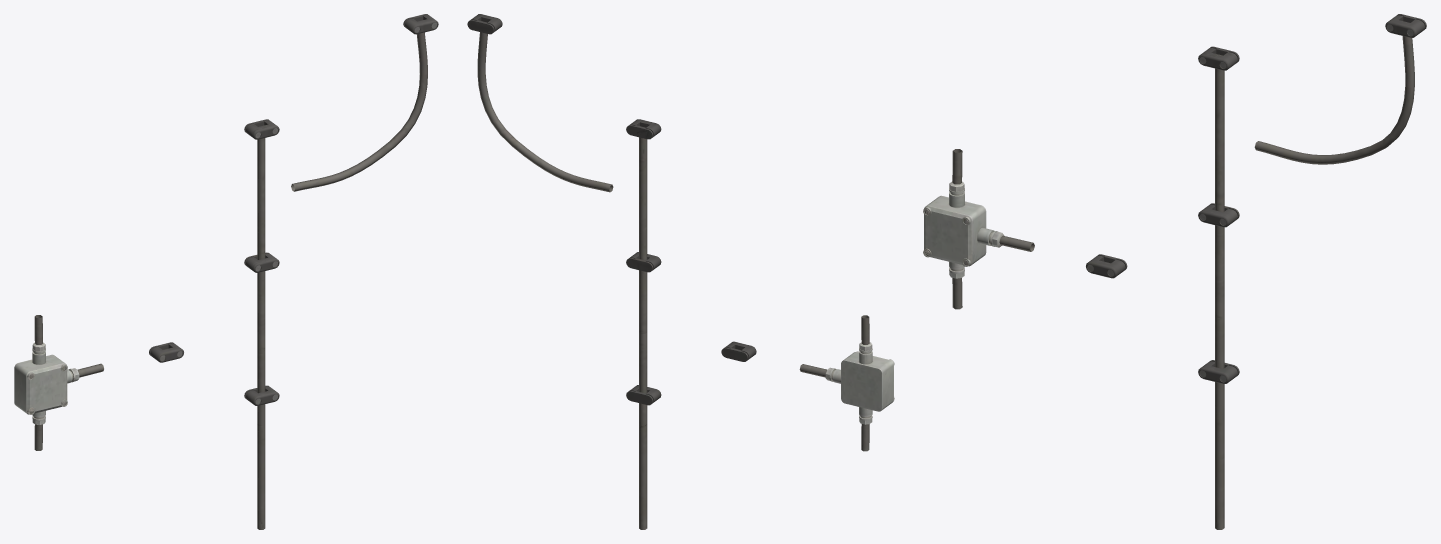
File: cable_kit.glb
3 renders of one model, left to right at view 1: azimuth 30°, elevation 25°; view 2: azimuth 150°, elevation 25°; view 3: azimuth 330°, elevation 25°, orthographic. The views are drawn at different scales.
Parts seen in each view (by area): view 1: cable_straight_long, cable_box_3way, cable_turn_long, cable_mount; view 2: cable_straight_long, cable_box_3way, cable_turn_long, cable_mount; view 3: cable_straight_long, cable_box_3way, cable_turn_long, cable_mount.
Part boxes in pixels (box(x1,y1,x2,y2)): cable_straight_long: box(244, 119, 279, 529); cable_box_3way: box(14, 315, 103, 450); cable_turn_long: box(291, 14, 438, 191); cable_mount: box(149, 342, 183, 362); cable_straight_long: box(626, 119, 661, 529); cable_box_3way: box(799, 315, 894, 451); cable_turn_long: box(467, 14, 613, 192); cable_mount: box(721, 341, 756, 361); cable_straight_long: box(1198, 46, 1239, 529); cable_box_3way: box(923, 149, 1034, 309); cable_turn_long: box(1254, 14, 1426, 164); cable_mount: box(1086, 254, 1127, 278).
Bounding box in the file's own units: 0.6531 × 0.7072 × 0.0369.
Materials: 2 (2 with a texture image).
